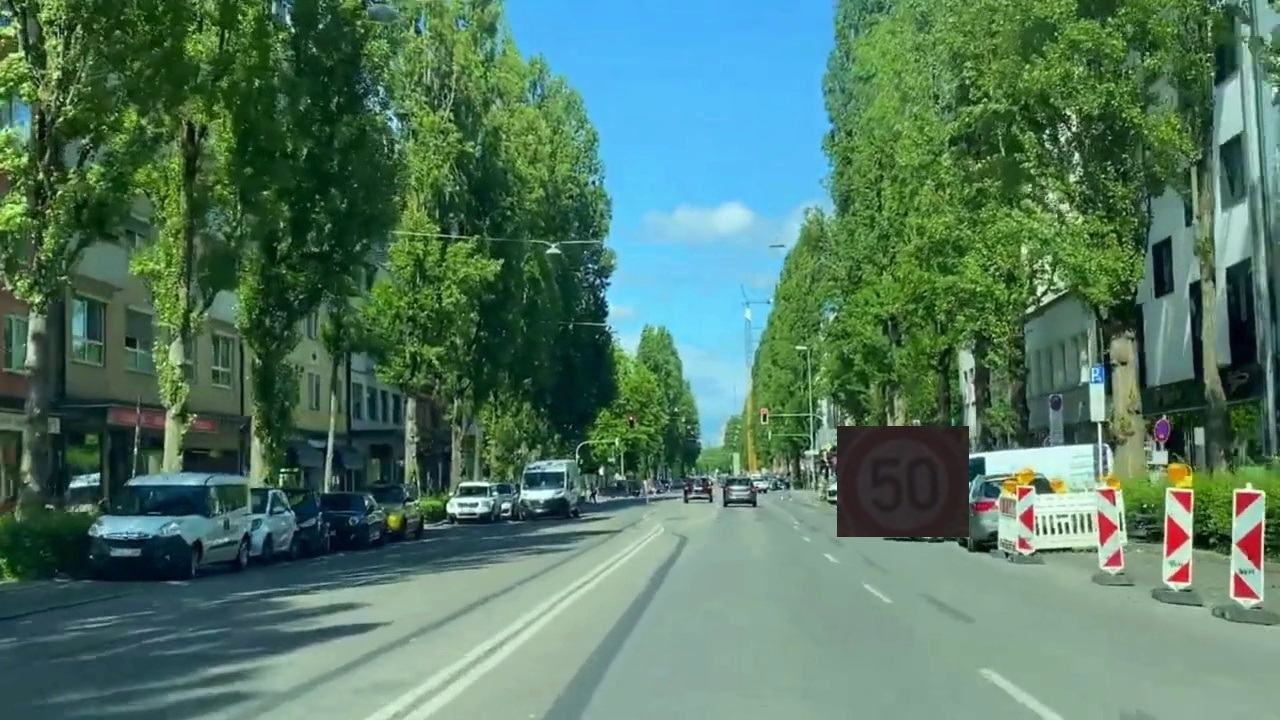Speed 50: (837, 426, 969, 537)
